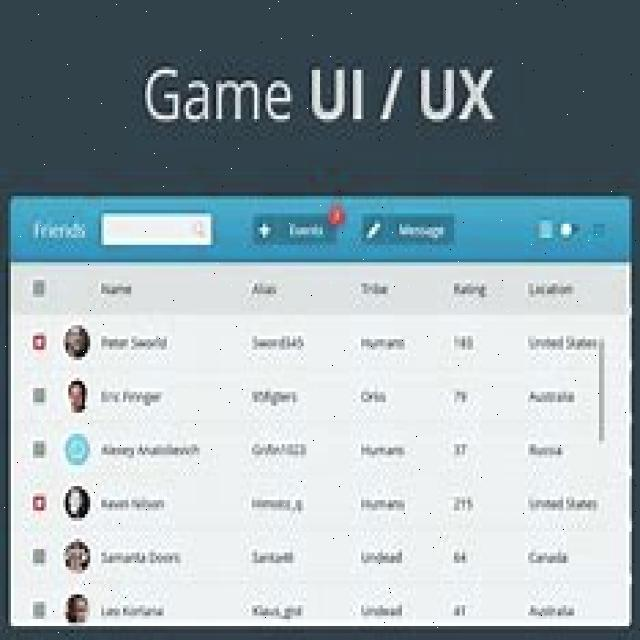button: (362, 210, 457, 246), (252, 212, 338, 246), (536, 214, 554, 242), (590, 218, 610, 242), (561, 218, 581, 241)
checkbox: (31, 329, 49, 356), (32, 490, 48, 515), (32, 546, 48, 568), (31, 384, 47, 405), (31, 599, 47, 619), (32, 438, 47, 459)
icon: (61, 531, 92, 576), (60, 588, 92, 628), (61, 482, 92, 522), (62, 322, 92, 362), (64, 377, 90, 417), (63, 430, 90, 468)
input: (96, 209, 216, 249)
label: (134, 55, 505, 131), (99, 439, 206, 461), (30, 214, 91, 248), (248, 437, 312, 467), (96, 332, 174, 355), (99, 549, 187, 567), (247, 492, 311, 516), (248, 332, 304, 359), (248, 386, 306, 412), (246, 597, 308, 621), (97, 600, 167, 620), (100, 388, 168, 408), (527, 334, 596, 353), (357, 334, 410, 358), (357, 493, 412, 516), (98, 496, 168, 514), (524, 495, 594, 513), (359, 599, 406, 624), (248, 543, 299, 565), (357, 439, 407, 461), (358, 543, 408, 565), (524, 386, 576, 406), (524, 548, 572, 568), (527, 600, 577, 619), (450, 491, 482, 520), (524, 439, 570, 458), (358, 383, 391, 407), (449, 384, 476, 412), (450, 328, 476, 356), (446, 441, 473, 466), (452, 597, 472, 620), (452, 543, 469, 568)
menu: (8, 262, 630, 318)
slider: (596, 334, 606, 632)
